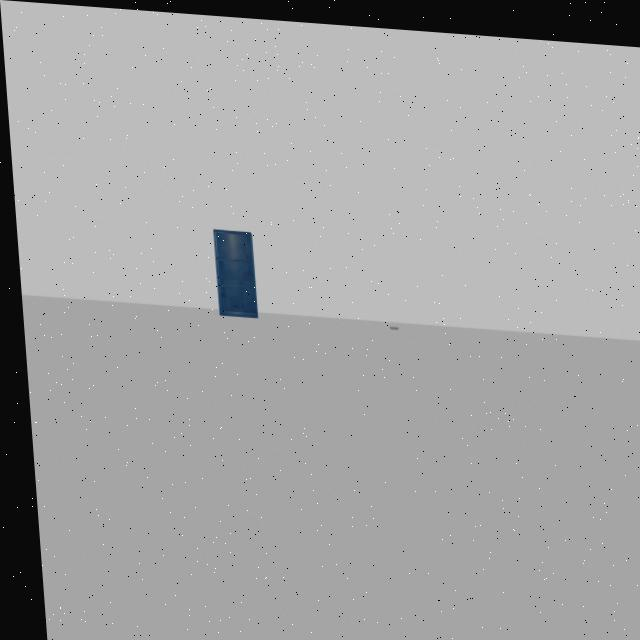bowl: (374, 303, 406, 337)
shelf: (196, 200, 274, 343)
